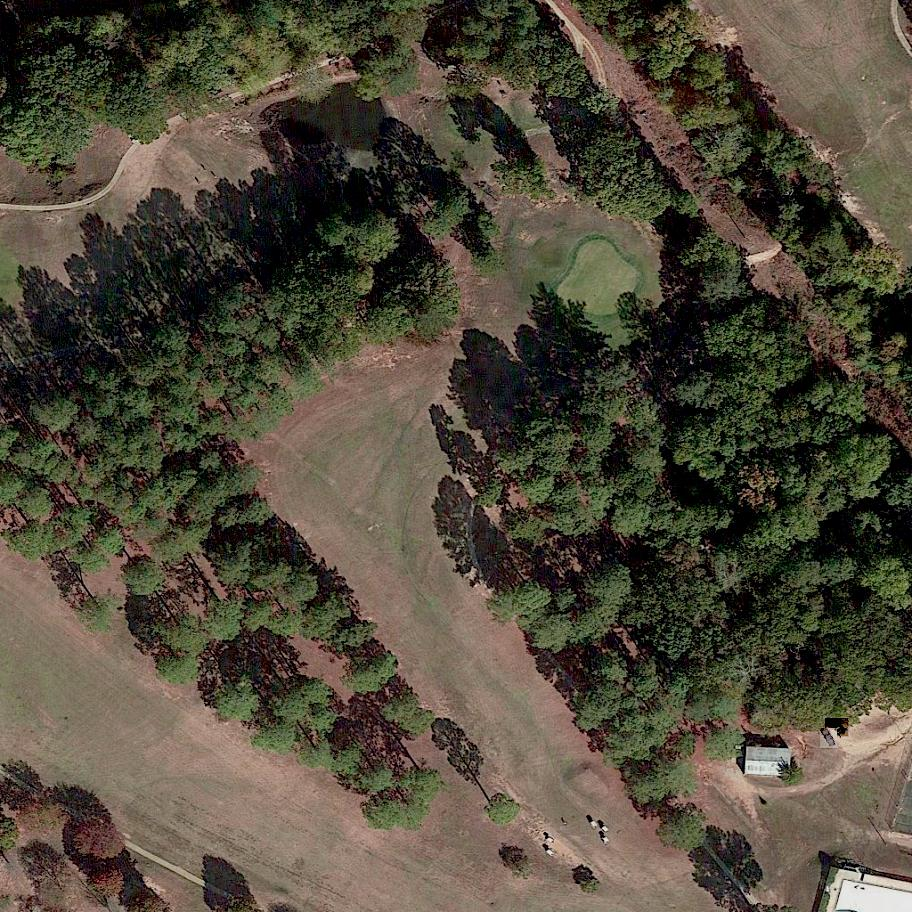small-vehicle: (826, 718, 850, 738), (821, 727, 838, 750)
